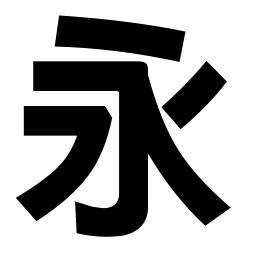D: (53, 13, 187, 52)
HSZ: (110, 58, 151, 100)
Hs: (30, 58, 83, 93)
Ne: (194, 186, 232, 229)
PNc: (137, 102, 186, 158)
PZe: (15, 183, 59, 224)
Ps: (193, 59, 230, 93)
SG: (72, 196, 149, 238)
Sm: (117, 163, 150, 187)
TPZ: (71, 104, 113, 153)
Ts: (22, 104, 53, 139)
